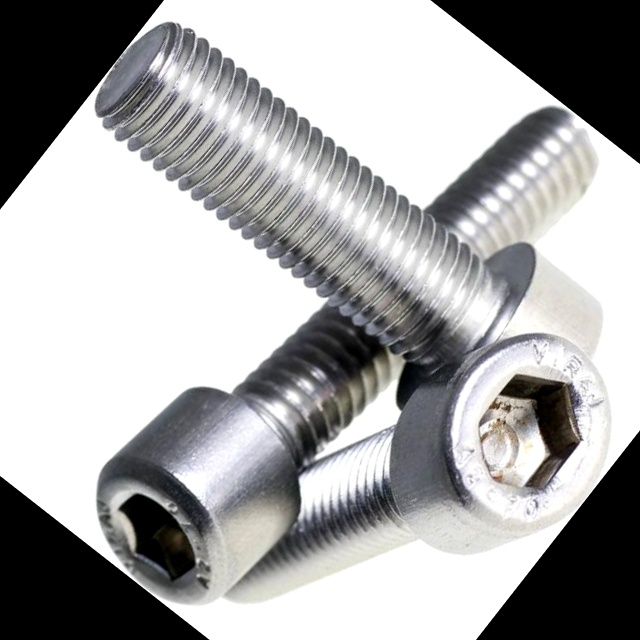allen: (346, 283, 640, 603), (54, 431, 263, 628)
